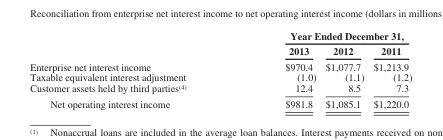table: (29, 29, 411, 109)
table column: (29, 29, 234, 109), (234, 29, 320, 109), (320, 29, 368, 109), (368, 29, 411, 109)
table column header: (29, 29, 411, 58)
table row: (29, 42, 411, 58), (29, 95, 411, 109), (29, 29, 411, 42), (29, 58, 411, 71), (29, 82, 411, 95), (29, 71, 411, 82)
table spanning cell: (234, 29, 411, 42)
